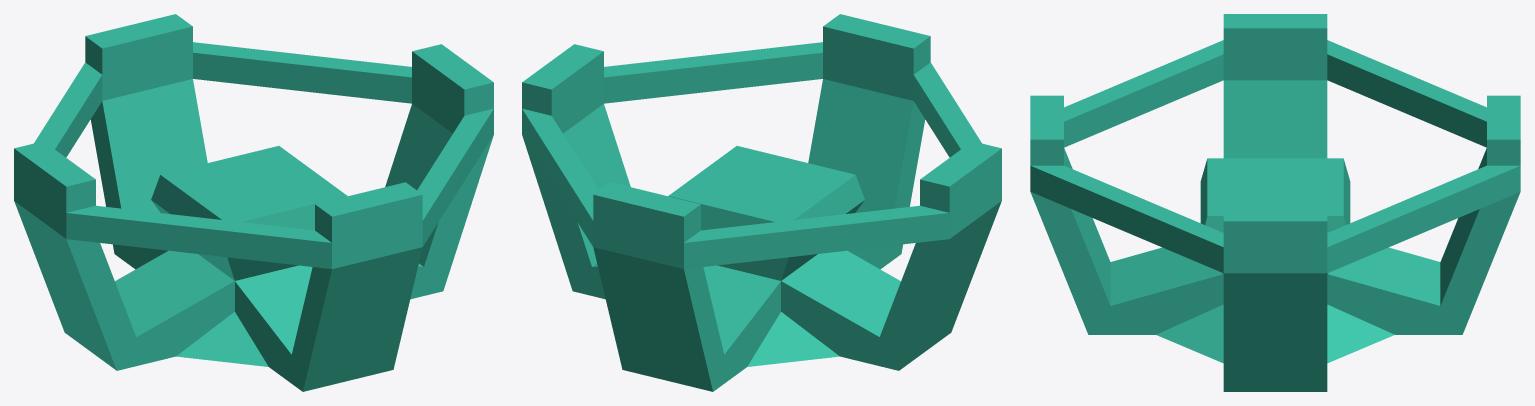
The model's file is fireBasket.fbx.
3 renders of one model, left to right at view 1: azimuth 30°, elevation 25°; view 2: azimuth 150°, elevation 25°; view 3: azimuth 270°, elevation 25°, orthographic.
Parts seen in each view (by area): view 1: fireBasket; view 2: fireBasket; view 3: fireBasket.
Boxes of the visible parts, left/top/right/bottom form: fireBasket: left=14, top=14, right=493, bottom=391; fireBasket: left=522, top=14, right=1001, bottom=391; fireBasket: left=1030, top=14, right=1520, bottom=391.
Size of the model in its own units: 2.73 by 1.2 by 2.73.
